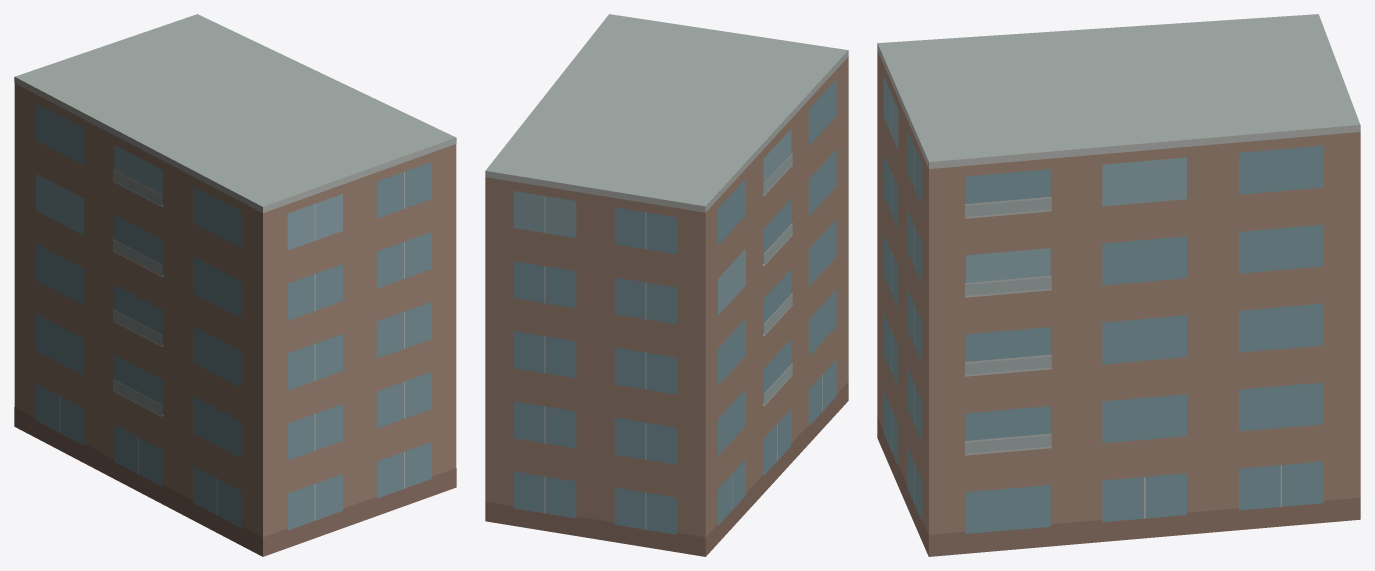
File: survey-upis-32523912.glb
3 renders of one model, left to right at view 1: azimuth 30°, elevation 25°; view 2: azimuth 150°, elevation 25°; view 3: azimuth 270°, elevation 25°, orthographic. The views are drawn at different scales.
Parts seen in each view (by area): view 1: survey-upis-32523912.tmp; view 2: survey-upis-32523912.tmp; view 3: survey-upis-32523912.tmp.
Boxes of the visible parts, bbox=[...] form: survey-upis-32523912.tmp: bbox=[14, 14, 456, 556]; survey-upis-32523912.tmp: bbox=[485, 14, 848, 556]; survey-upis-32523912.tmp: bbox=[877, 14, 1360, 556].
Size of the model in its own units: 11.04 by 13.7 by 15.21.
